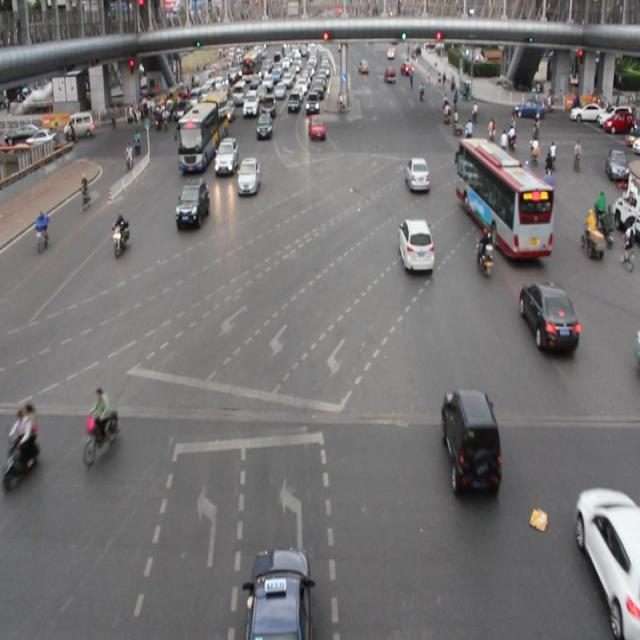car: (577, 483, 639, 640), (442, 388, 499, 497), (250, 546, 311, 640), (519, 279, 576, 356), (397, 218, 433, 273), (176, 177, 210, 230), (236, 155, 260, 196), (214, 136, 238, 176), (404, 156, 429, 194), (308, 111, 325, 140)
van: (457, 138, 549, 257), (176, 89, 224, 169)
